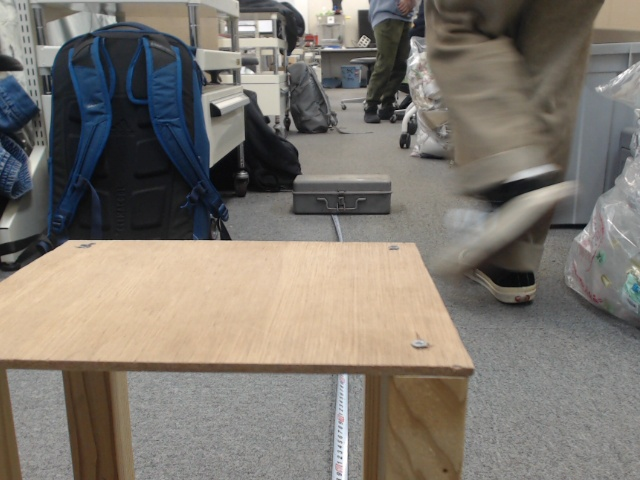desk: (247, 174, 470, 421)
